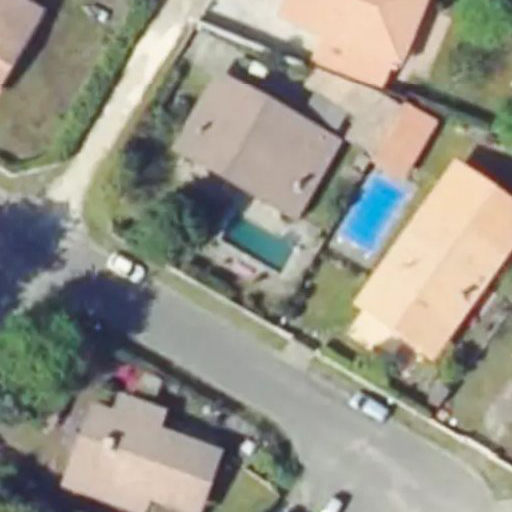pool: (218, 236, 293, 246)
